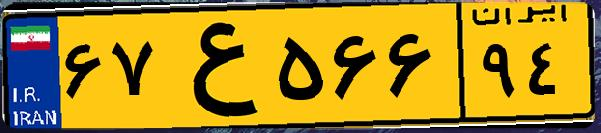4: (525, 38, 570, 115)
5: (270, 28, 330, 110)
6: (385, 28, 445, 110), (330, 28, 385, 110), (57, 26, 110, 100)
7: (110, 28, 158, 98)
9: (475, 38, 525, 113)
ع: (158, 12, 270, 120)
